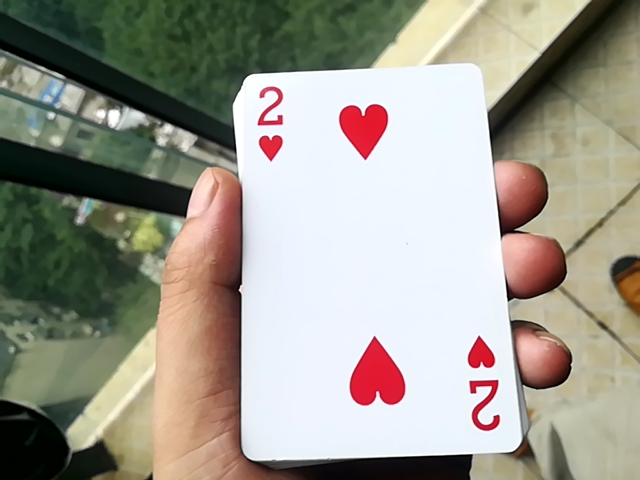hx 2: (227, 56, 517, 463)
